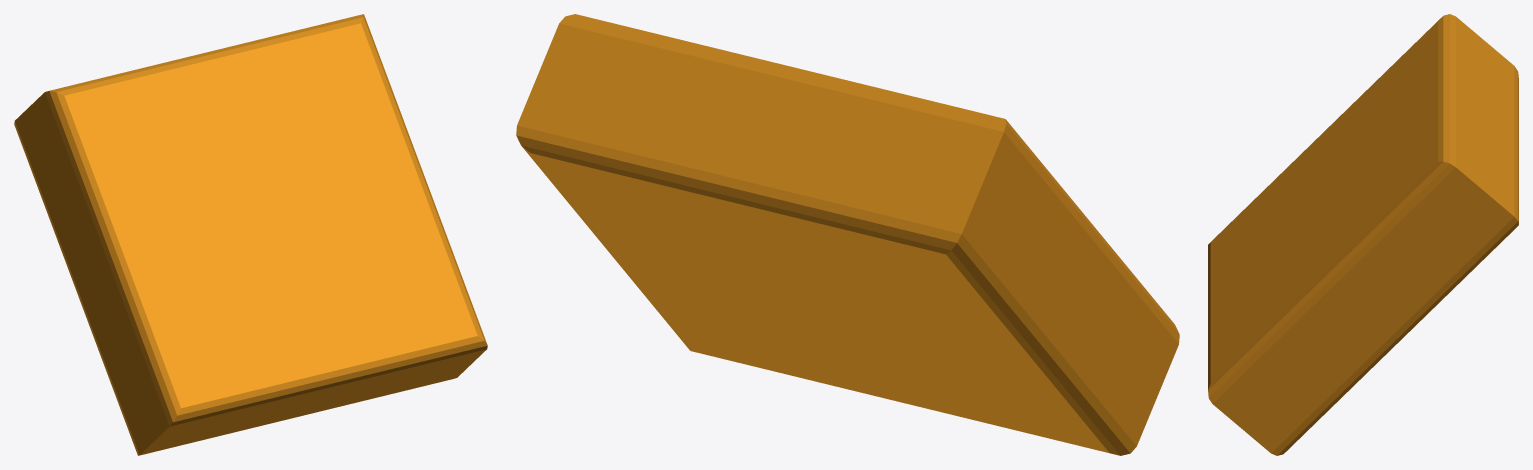
Rendered from square.glb.
The picture shows the model from 3 angles, left to right: view 1: azimuth 30°, elevation 25°; view 2: azimuth 150°, elevation 25°; view 3: azimuth 270°, elevation 25°; orthographic projection. The views are drawn at different scales.
Size of the model in its own units: 1.07 by 0.9681 by 0.9318.
